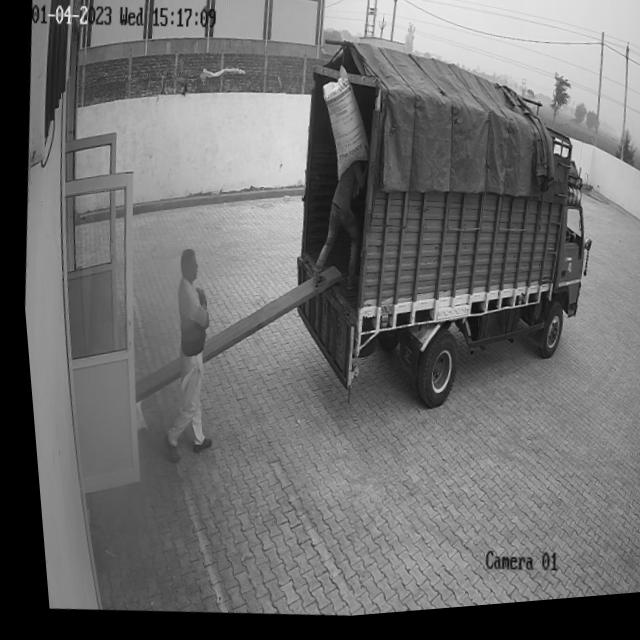sack: (310, 67, 376, 189)
